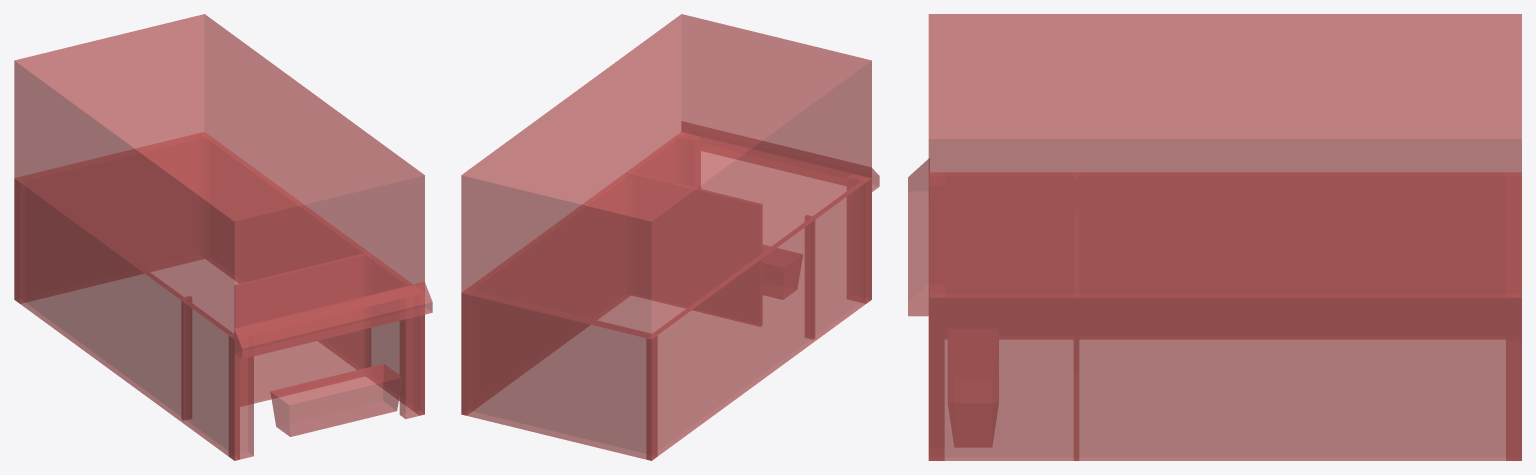
File: SM_Bld_Chopshop_01_Collision.fbx
3 renders of one model, left to right at view 1: azimuth 30°, elevation 25°; view 2: azimuth 150°, elevation 25°; view 3: azimuth 270°, elevation 25°, orthographic. The views are drawn at different scales.
Visible parts, largest first — view 1: SM_Bld_Chopshop_01_Collision; view 2: SM_Bld_Chopshop_01_Collision; view 3: SM_Bld_Chopshop_01_Collision.
Part boxes in pixels (box(x1,y1,x2,y2)): SM_Bld_Chopshop_01_Collision: box(14, 14, 432, 460); SM_Bld_Chopshop_01_Collision: box(461, 14, 879, 460); SM_Bld_Chopshop_01_Collision: box(908, 14, 1521, 460).
Bounding box in the file's own units: 500 × 600 × 1037.
